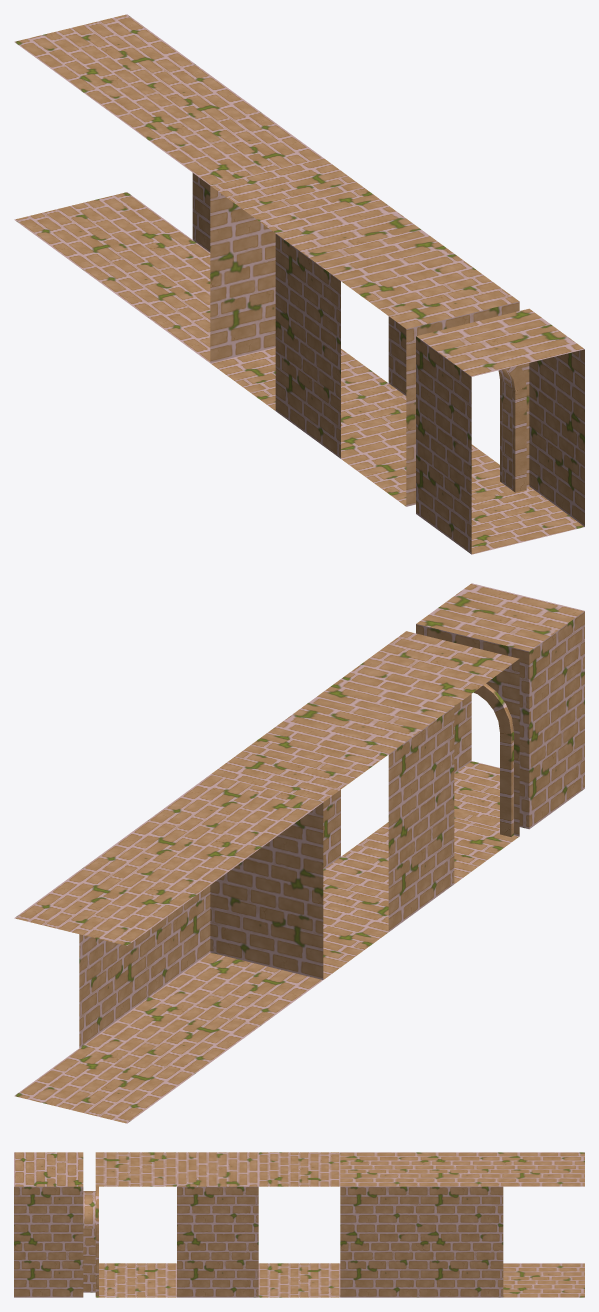
Rendered from DungeonTiles.glb.
3 renders of one model, top to bottom at view 1: azimuth 30°, elevation 25°; view 2: azimuth 150°, elevation 25°; view 3: azimuth 270°, elevation 25°, orthographic. The views are drawn at different scales.
Visible parts, largest first — view 1: Tile_Door_Corridor-col, Tile-Corridor-col, Tile-Corner-col, Tile_Wall-col, Tile_Open-col, Tile_Door_Wall-col, Tile_WallToCorridor-col; view 2: Tile-Corner-col, Tile-Corridor-col, Tile_Door_Corridor-col, Tile_Wall-col, Tile_Open-col, Tile_Door_Wall-col, Tile_WallToCorridor-col; view 3: Tile_Wall-col, Tile-Corner-col, Tile-Corridor-col, Tile_Door_Corridor-col, Tile_Door_Wall-col, Tile_WallToCorridor-col, Tile_Open-col.
Boxes of the visible parts, bbox=[...] form: Tile_Door_Corridor-col: bbox=[416, 308, 584, 554]; Tile-Corridor-col: bbox=[275, 205, 453, 458]; Tile-Corner-col: bbox=[145, 110, 322, 363]; Tile_Wall-col: bbox=[79, 62, 257, 315]; Tile_Open-col: bbox=[14, 14, 192, 267]; Tile_Door_Wall-col: bbox=[341, 253, 519, 506]; Tile_WallToCorridor-col: bbox=[210, 158, 388, 410]; Tile-Corner-col: bbox=[144, 774, 323, 1027]; Tile-Corridor-col: bbox=[276, 679, 454, 932]; Tile_Door_Corridor-col: bbox=[416, 583, 584, 831]; Tile_Wall-col: bbox=[79, 822, 257, 1075]; Tile_Open-col: bbox=[14, 870, 192, 1123]; Tile_Door_Wall-col: bbox=[341, 631, 519, 883]; Tile_WallToCorridor-col: bbox=[210, 727, 388, 979]; Tile_Wall-col: bbox=[422, 1152, 503, 1297]; Tile-Corner-col: bbox=[340, 1152, 421, 1297]; Tile-Corridor-col: bbox=[177, 1152, 258, 1297]; Tile_Door_Corridor-col: bbox=[14, 1152, 95, 1297]; Tile_Door_Wall-col: bbox=[95, 1152, 176, 1297]; Tile_WallToCorridor-col: bbox=[258, 1152, 340, 1297]; Tile_Open-col: bbox=[503, 1152, 584, 1297].
Size of the model in its own units: 2 by 3 by 14.
Materials: 1 (1 with a texture image).
